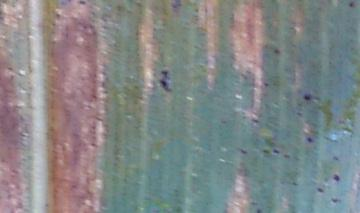tarspot: (156, 65, 173, 94), (314, 184, 327, 197), (305, 133, 315, 148), (331, 170, 341, 185), (271, 145, 281, 159), (301, 92, 313, 103), (271, 46, 282, 58), (328, 195, 340, 206), (260, 80, 273, 90), (261, 145, 271, 157), (331, 152, 340, 165), (251, 115, 259, 128), (239, 147, 249, 156), (281, 152, 291, 161), (347, 1, 357, 9), (254, 205, 263, 213)
